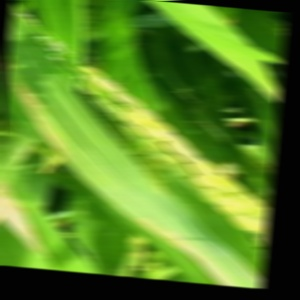Leaf_Blast: (0, 36, 54, 101)
